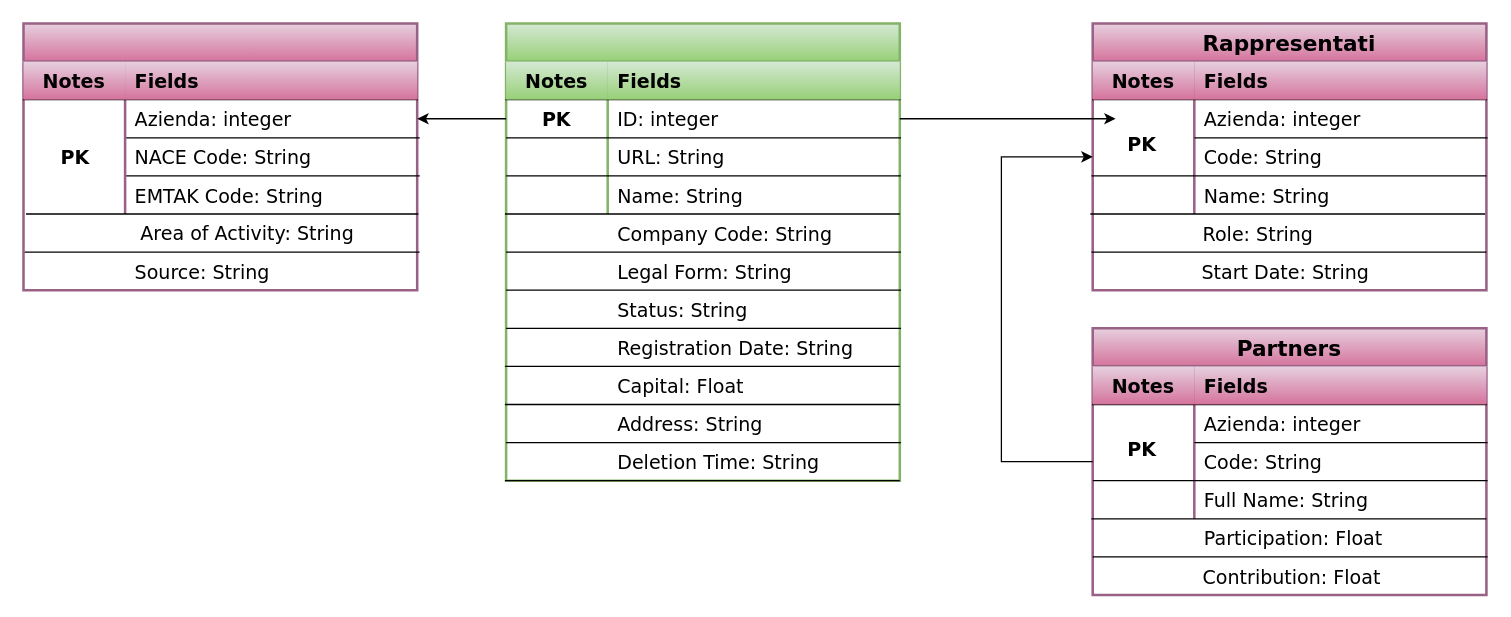
This 1511x617 diagram has some shape labels left out. Each missing label, with the box of its shape:
Attività: (22, 22, 418, 291)
Azienda: (504, 22, 900, 481)
